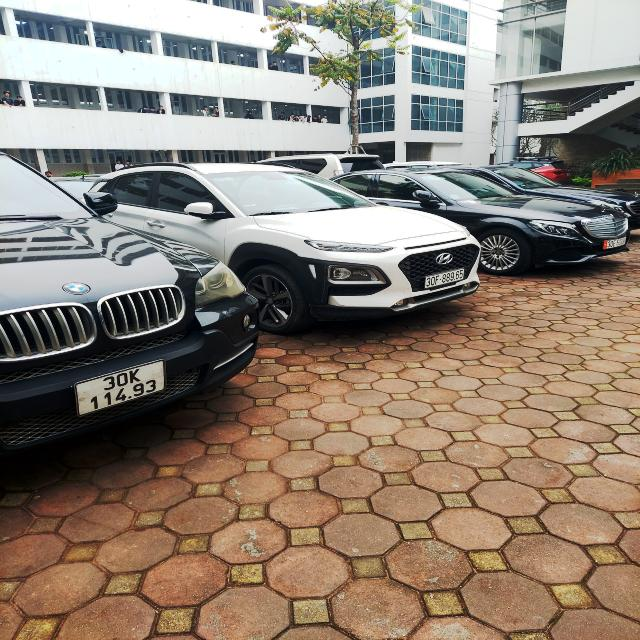license_plate: (76, 360, 168, 418), (426, 269, 466, 289)
